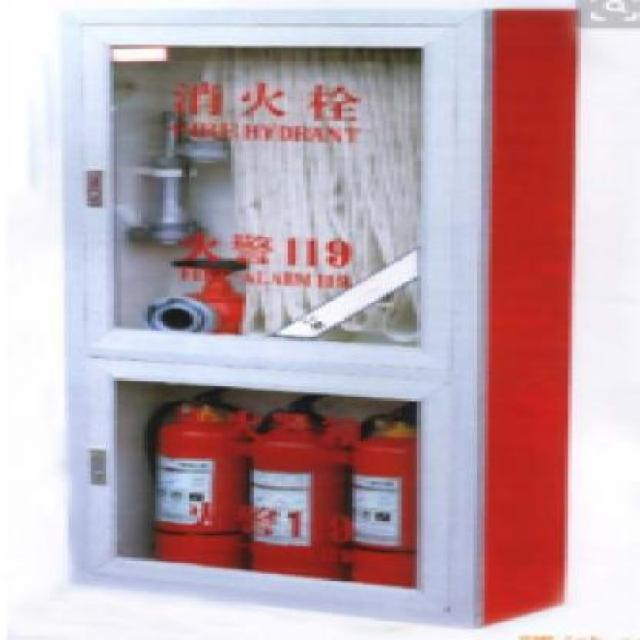firehydrant: (48, 2, 589, 633)
